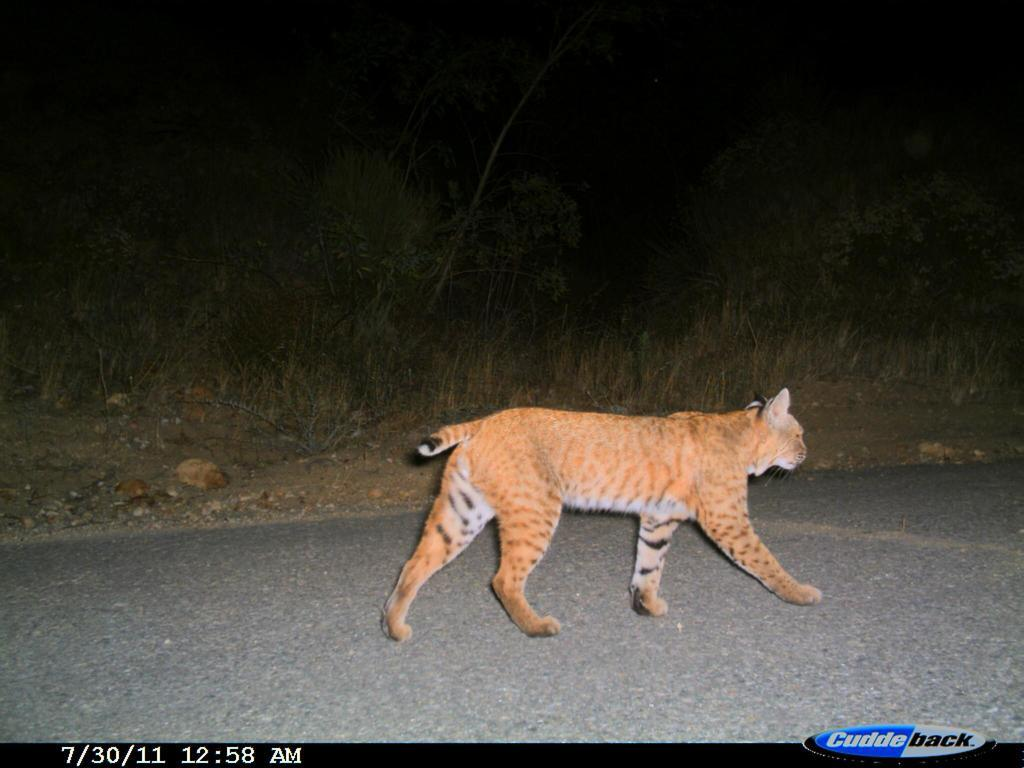bobcat: (370, 382, 829, 646)
